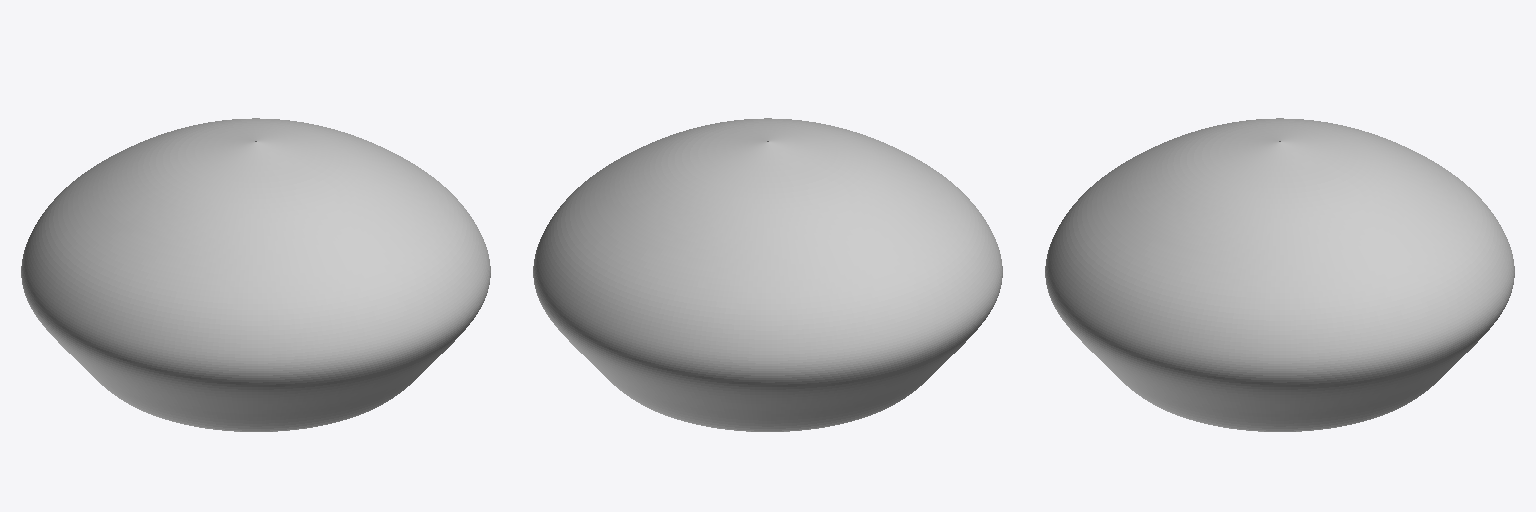
The model's file is Explosion Top.obj.
3 renders of one model, left to right at view 1: azimuth 30°, elevation 25°; view 2: azimuth 150°, elevation 25°; view 3: azimuth 270°, elevation 25°, orthographic.
Parts seen in each view (by area): view 1: Bottom; view 2: Bottom; view 3: Bottom.
Boxes of the visible parts, box(x1,y1,x2,y2) form: Bottom: box(21, 118, 490, 431); Bottom: box(533, 118, 1002, 431); Bottom: box(1045, 118, 1514, 431).
Size of the model in its own units: 4.03 by 2.17 by 4.03.